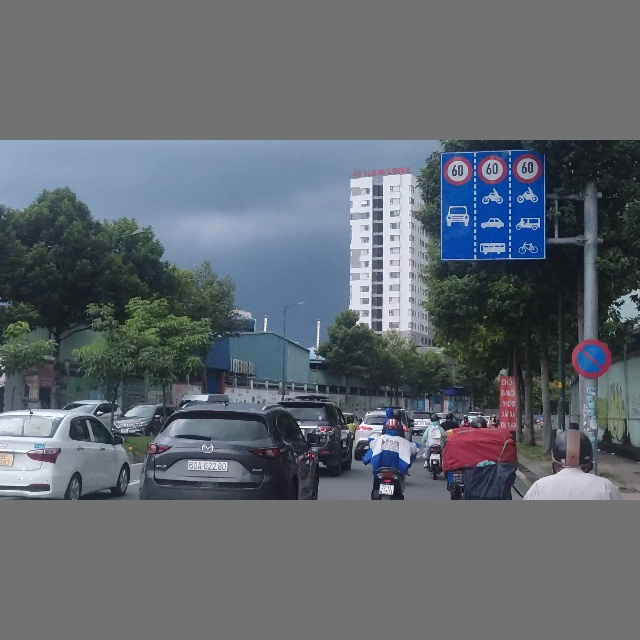P.127*60: (441, 153, 473, 186), (511, 152, 544, 184), (478, 155, 507, 184)
P.131a: (572, 339, 612, 377)
R.415a: (440, 185, 546, 259)
